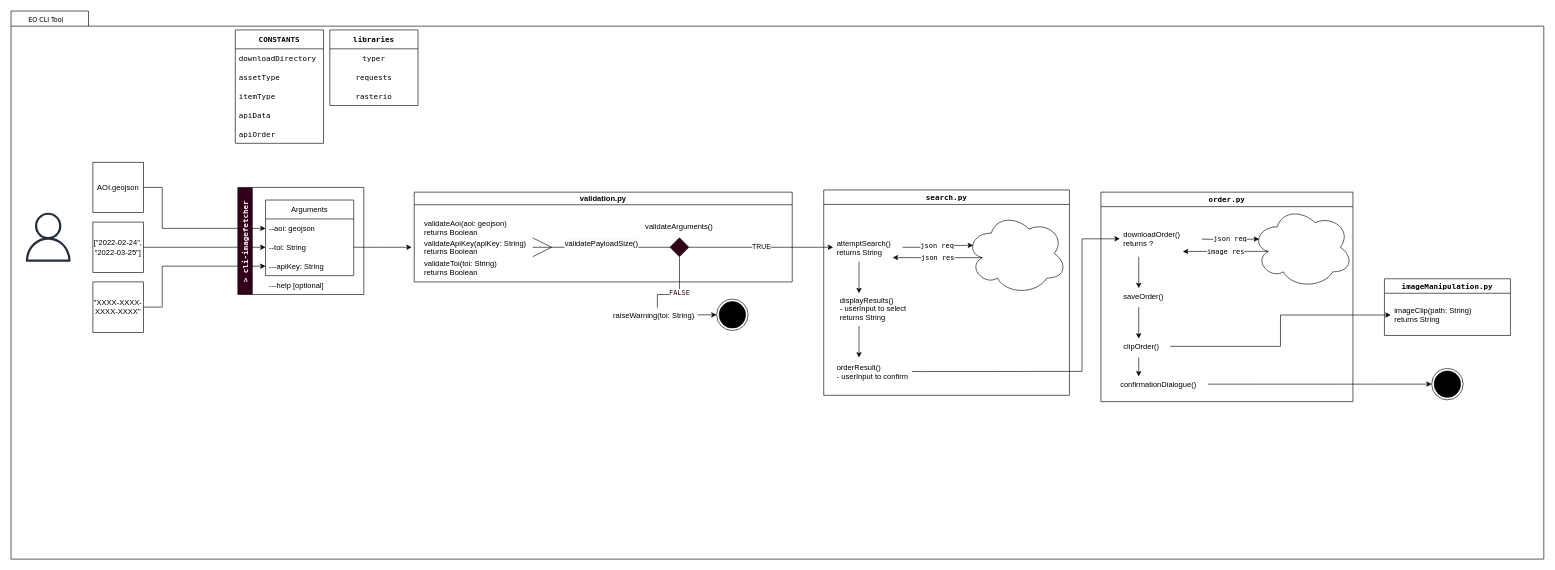
Some shapes in this 1555 by 570 pixel diagram are drawn without their labels. Each missing label, with the centre of its shape:
Data API REST Endpoint: the point at 1016,253
Order API REST Endpoint: the point at 1302,247
